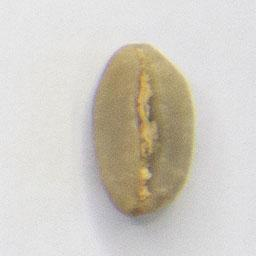longberry: (89, 37, 197, 219)
